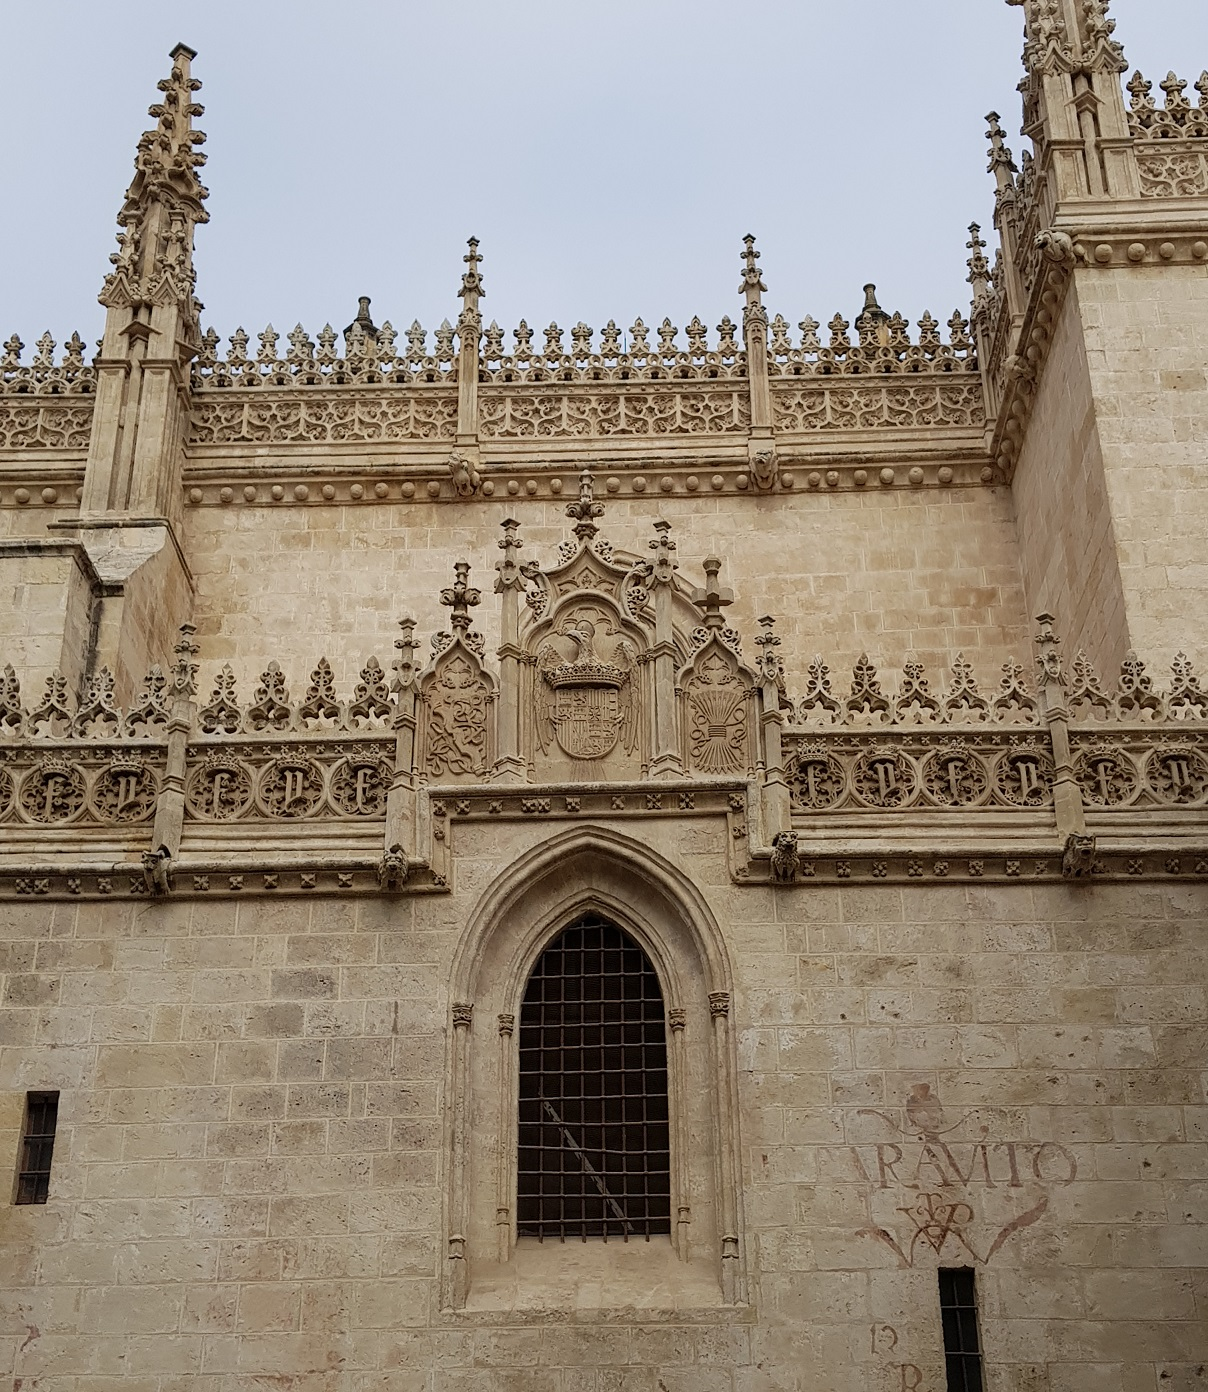arco-apuntado: (439, 814, 752, 1091)
pinaculo-gotico: (93, 31, 218, 326)
